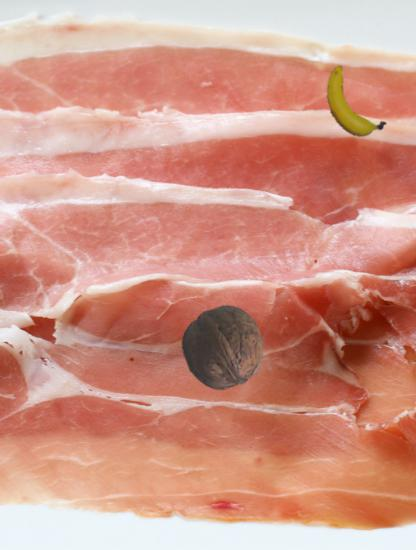Banana: (314, 62, 392, 140)
Walnut: (182, 306, 266, 390)
